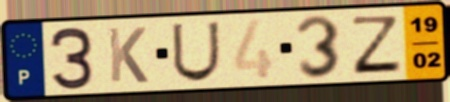3: (45, 24, 96, 92), (294, 13, 344, 81)
4: (231, 17, 278, 81)
K: (105, 25, 150, 85)
U: (169, 20, 222, 84)
Z: (351, 15, 405, 76)
